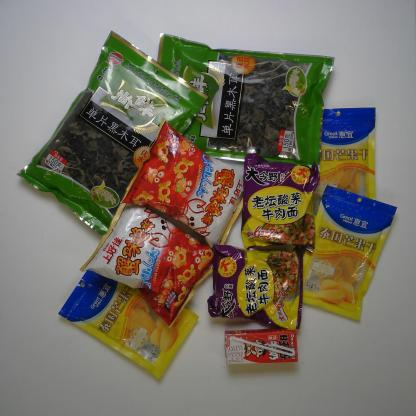Dried Food: (11, 26, 212, 238), (150, 31, 337, 175)
Dried Fruit: (54, 268, 201, 382), (296, 183, 401, 326), (304, 104, 380, 226)
Instant Noodles: (236, 149, 322, 256), (206, 241, 306, 332)
Milk: (218, 326, 302, 367)
Puffed Food: (76, 197, 219, 331), (116, 115, 250, 254)
